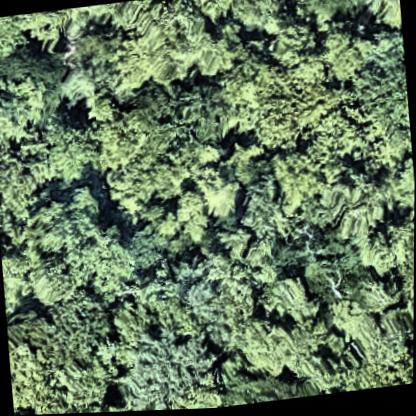tree-top: (92, 73, 229, 184), (19, 189, 123, 306), (230, 60, 336, 153), (349, 42, 413, 166), (122, 330, 218, 412), (43, 291, 121, 376), (229, 311, 296, 382), (0, 46, 60, 119), (318, 171, 379, 238), (45, 116, 101, 187), (361, 216, 415, 289), (263, 13, 327, 72), (253, 269, 315, 328), (315, 24, 372, 88), (272, 153, 325, 213), (242, 177, 287, 243), (190, 171, 242, 226), (357, 347, 414, 393), (1, 244, 36, 315), (377, 156, 415, 219), (223, 0, 285, 37), (353, 0, 402, 36), (103, 395, 133, 413), (93, 398, 127, 413), (15, 401, 37, 416), (263, 0, 330, 3)
